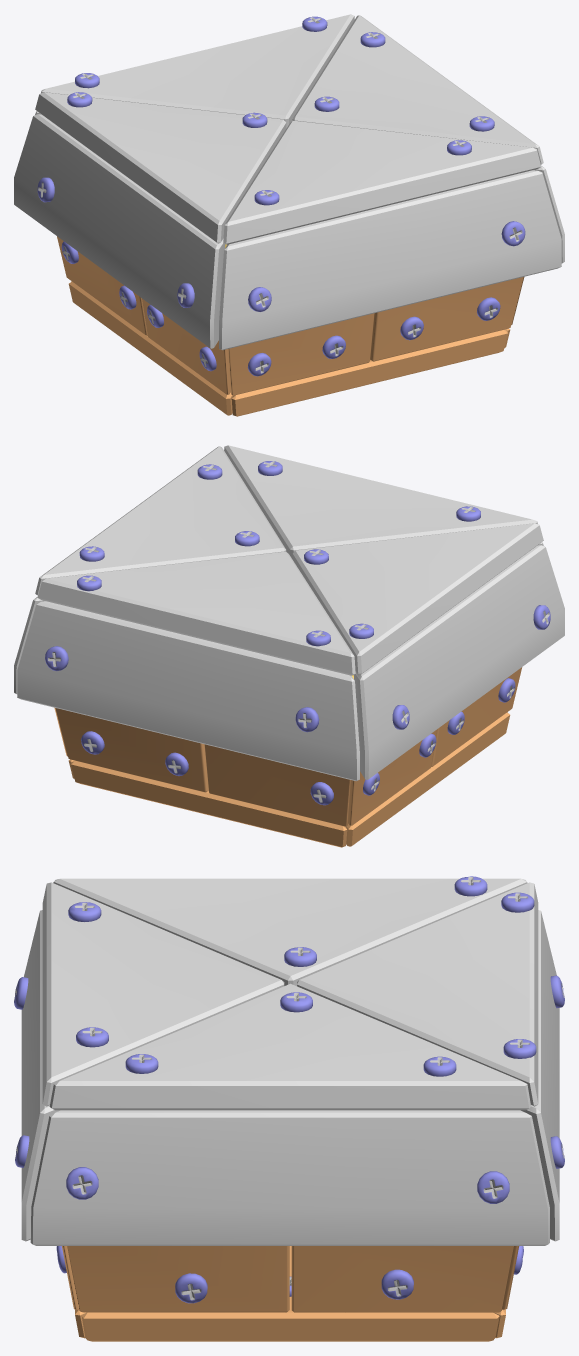
The model's file is Level_Takoyaki_17.fbx.
The picture shows the model from 3 angles, top to bottom: view 1: azimuth 30°, elevation 25°; view 2: azimuth 150°, elevation 25°; view 3: azimuth 270°, elevation 25°; orthographic projection. The views are drawn at different scales.
Visible parts, largest first — view 1: Takoyaki_48, Takoyaki_49, Takoyaki_52, Takoyaki_53, Takoyaki_05, Takoyaki_51, Takoyaki_41, Takoyaki_56, Takoyaki_58, Takoyaki_59, Takoyaki_34, Takoyaki_06; view 2: Takoyaki_50, Takoyaki_49, Takoyaki_05, Takoyaki_53, Takoyaki_52, Takoyaki_51, Takoyaki_40, Takoyaki_54, Takoyaki_07, Takoyaki_59, Takoyaki_06, Takoyaki_34; view 3: Takoyaki_33, Takoyaki_51, Takoyaki_53, Takoyaki_52, Takoyaki_05, Takoyaki_39, Takoyaki_55, Takoyaki_57, Takoyaki_48, Takoyaki_50, Screw 148.004, Screw 147.004 (+4 smaller).
Part boxes in pixels (x1=…): Takoyaki_48: x1=219, y1=170, x2=561, y2=350; Takoyaki_49: x1=14, y1=114, x2=225, y2=348; Takoyaki_52: x1=223, y1=120, x2=541, y2=244; Takoyaki_53: x1=35, y1=92, x2=286, y2=243; Takoyaki_05: x1=41, y1=14, x2=354, y2=128; Takoyaki_51: x1=292, y1=15, x2=543, y2=164; Takoyaki_41: x1=370, y1=277, x2=523, y2=361; Takoyaki_56: x1=228, y1=313, x2=374, y2=395; Takoyaki_58: x1=231, y1=330, x2=507, y2=416; Takoyaki_59: x1=68, y1=281, x2=233, y2=415; Takoyaki_34: x1=142, y1=298, x2=230, y2=394; Takoyaki_06: x1=57, y1=236, x2=147, y2=336; Takoyaki_50: x1=17, y1=601, x2=359, y2=781; Takoyaki_49: x1=353, y1=545, x2=564, y2=779; Takoyaki_05: x1=37, y1=551, x2=355, y2=675; Takoyaki_53: x1=292, y1=523, x2=543, y2=674; Takoyaki_52: x1=224, y1=445, x2=537, y2=559; Takoyaki_51: x1=35, y1=446, x2=286, y2=595; Takoyaki_40: x1=204, y1=744, x2=351, y2=826; Takoyaki_54: x1=55, y1=708, x2=208, y2=792; Takoyaki_07: x1=71, y1=761, x2=347, y2=847; Takoyaki_59: x1=345, y1=712, x2=510, y2=846; Takoyaki_06: x1=348, y1=729, x2=436, y2=825; Takoyaki_34: x1=431, y1=667, x2=522, y2=767; Takoyaki_33: x1=30, y1=1110, x2=549, y2=1245; Takoyaki_51: x1=49, y1=983, x2=530, y2=1110; Takoyaki_53: x1=53, y1=878, x2=527, y2=986; Takoyaki_52: x1=42, y1=882, x2=284, y2=1106; Takoyaki_05: x1=297, y1=882, x2=538, y2=1106; Takoyaki_39: x1=291, y1=1246, x2=514, y2=1312; Takoyaki_55: x1=67, y1=1246, x2=289, y2=1312; Takoyaki_57: x1=81, y1=1246, x2=499, y2=1341; Takoyaki_48: x1=21, y1=910, x2=59, y2=1241; Takoyaki_50: x1=521, y1=910, x2=559, y2=1241; Screw 148.004: x1=66, y1=1167, x2=98, y2=1199; Screw 147.004: x1=477, y1=1171, x2=509, y2=1203.
Size of the model in its own units: 5.54 by 3.22 by 5.52.
